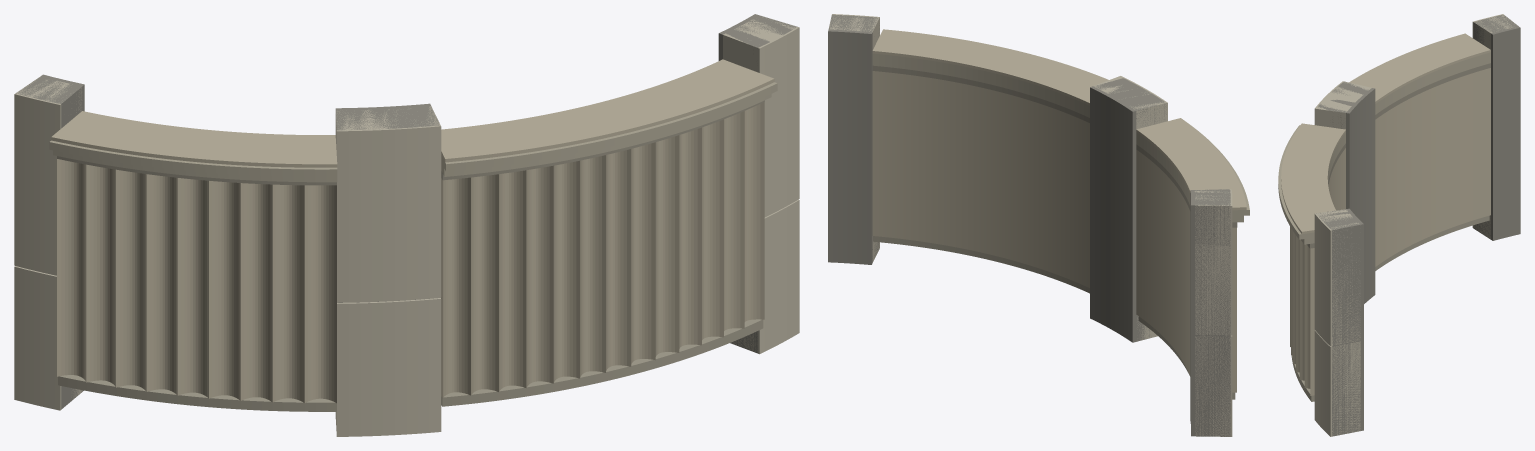
File: huangpu-former-german-post-office-fluted-bow-aprons-raw.glb
3 renders of one model, left to right at view 1: azimuth 30°, elevation 25°; view 2: azimuth 150°, elevation 25°; view 3: azimuth 270°, elevation 25°, orthographic. The views are drawn at different scales.
Parts seen in each view (by area): view 1: 原德国邮局转角弧窗下的竖槽饰板; view 2: 原德国邮局转角弧窗下的竖槽饰板; view 3: 原德国邮局转角弧窗下的竖槽饰板.
Boxes of the visible parts, bbox=[...] form: 原德国邮局转角弧窗下的竖槽饰板: bbox=[14, 14, 799, 436]; 原德国邮局转角弧窗下的竖槽饰板: bbox=[828, 14, 1249, 436]; 原德国邮局转角弧窗下的竖槽饰板: bbox=[1278, 14, 1520, 436].
Bounding box in the file's own units: 2.78 × 1.23 × 1.31.
